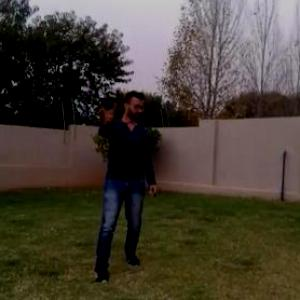takeoff-hand: (93, 92, 125, 127)
